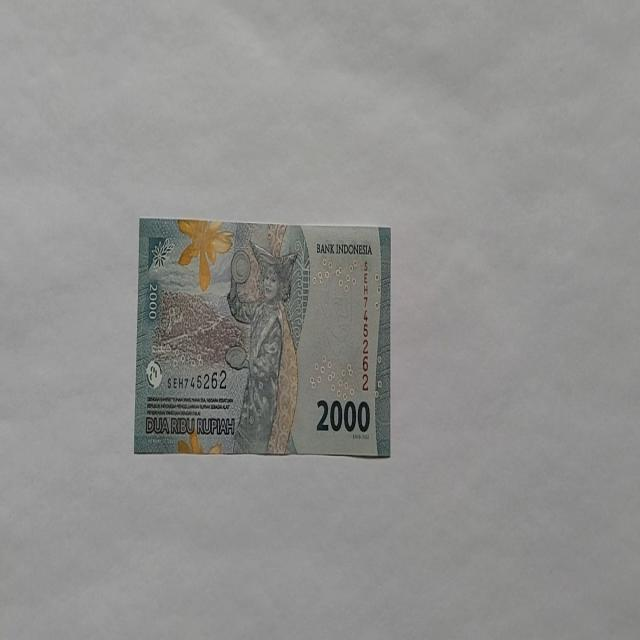dua ribu rupiah: (132, 218, 392, 458), (224, 238, 300, 454), (176, 216, 234, 292)
